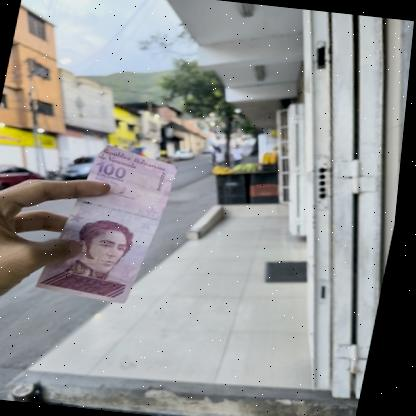one_hundred-front-vef: (37, 138, 185, 306)
